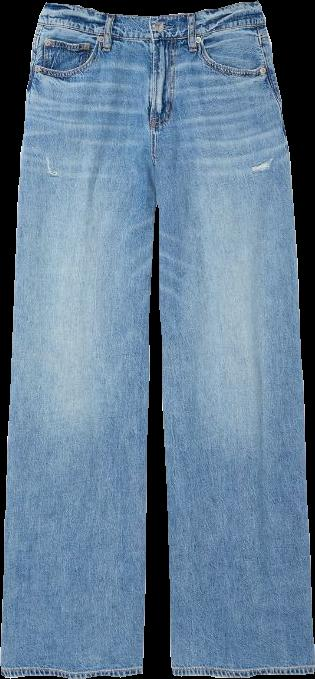Hemline: (169, 666, 314, 678), (0, 667, 144, 678)
Pantleg: (151, 1, 314, 676), (1, 3, 156, 676)
Waistline: (33, 19, 268, 48), (46, 0, 262, 22)
